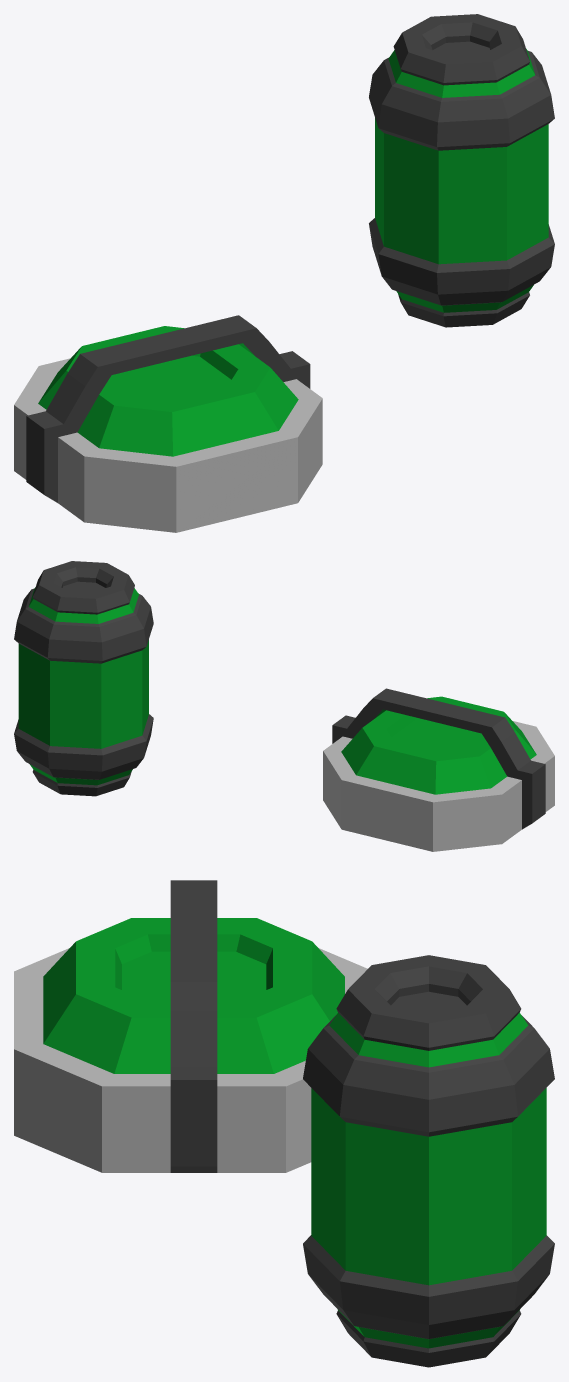
Rendered from navigation.object.fbx.
3 renders of one model, top to bottom at view 1: azimuth 30°, elevation 25°; view 2: azimuth 150°, elevation 25°; view 3: azimuth 270°, elevation 25°, orthographic. The views are drawn at different scales.
Parts seen in each view (by area): view 1: Cylinder, Cylinder.002; view 2: Cylinder, Cylinder.002; view 3: Cylinder.002, Cylinder.
Boxes of the visible parts, x1,y1,x2,y2 form: Cylinder: (14, 315, 322, 532); Cylinder.002: (369, 14, 554, 327); Cylinder: (323, 688, 554, 851); Cylinder.002: (14, 561, 153, 796); Cylinder.002: (303, 955, 554, 1367); Cylinder: (14, 880, 367, 1172).
Bounding box in the file's own units: 139 × 59.72 × 83.14.
